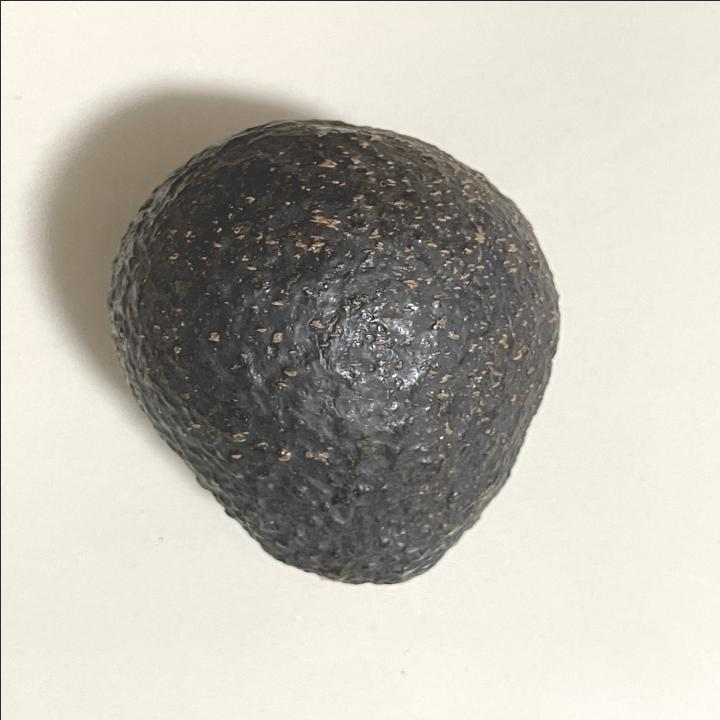Level3: (98, 109, 576, 598)
